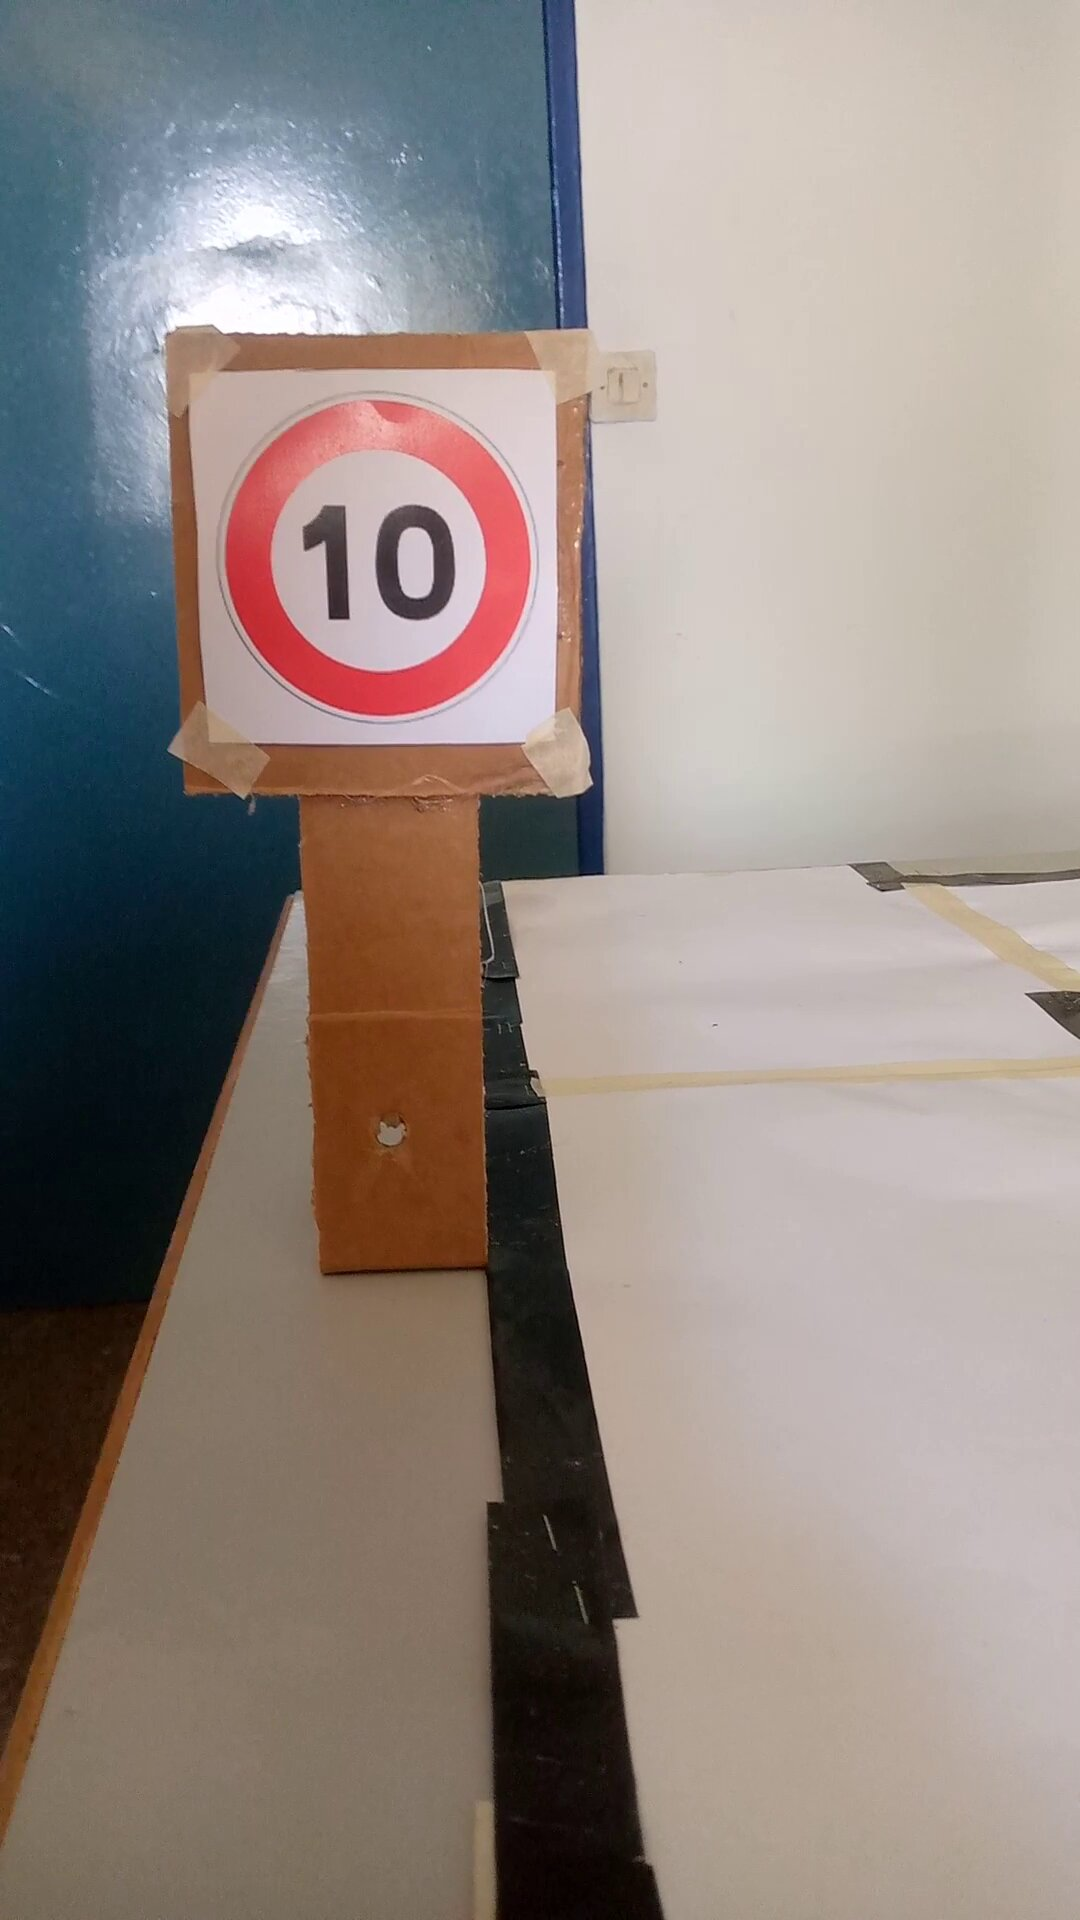panel011: (187, 367, 570, 742)
